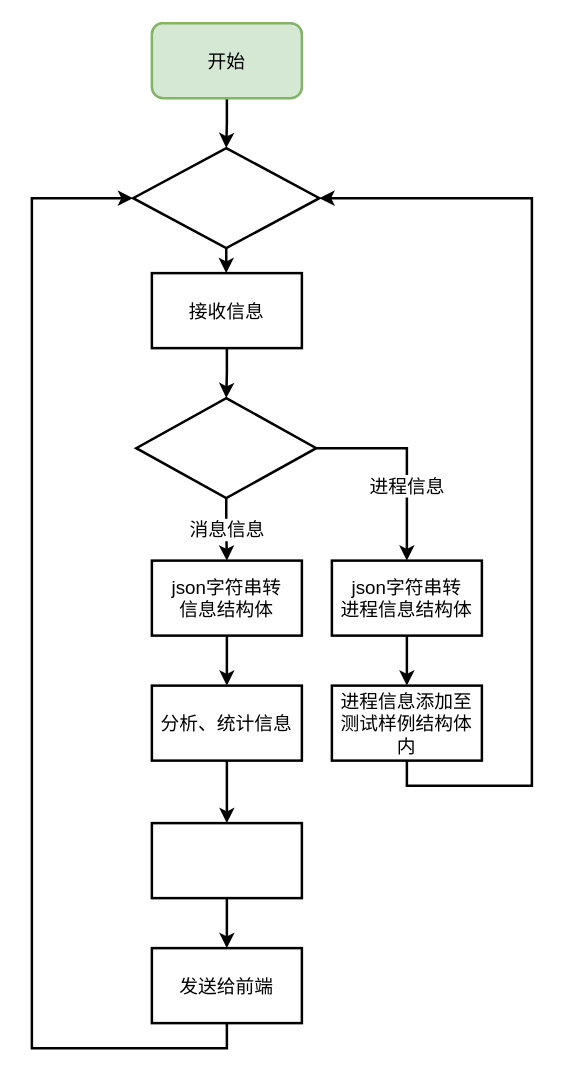
Some shapes in this 564 by 1080 pixel diagram are drawn without their labels. The centre of each missing label's shape, as x and y in pixels:
True: the point at 225,197
信息类型判断: the point at 225,447
将信息存入队列: the point at 226,860
